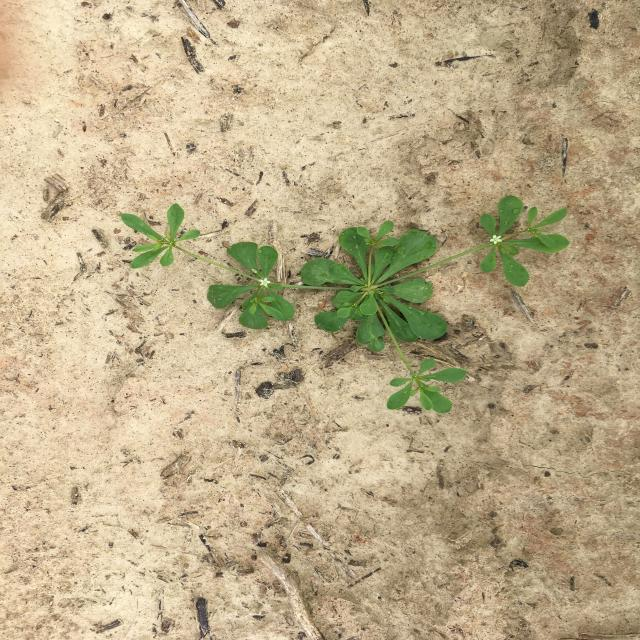Carpetweed: (120, 195, 571, 414)
